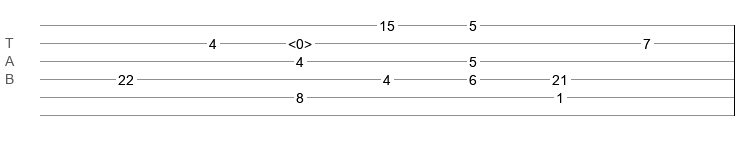1: (556, 90, 564, 100)
15: (379, 18, 395, 28)
21: (552, 72, 568, 82)
22: (118, 72, 134, 82)
4: (209, 36, 217, 46), (296, 54, 304, 64), (383, 72, 391, 82)
5: (469, 18, 477, 28), (469, 54, 477, 64)
6: (469, 72, 477, 82)
7: (643, 36, 651, 46)
8: (296, 90, 304, 100)
harmonic: (288, 36, 312, 46)
